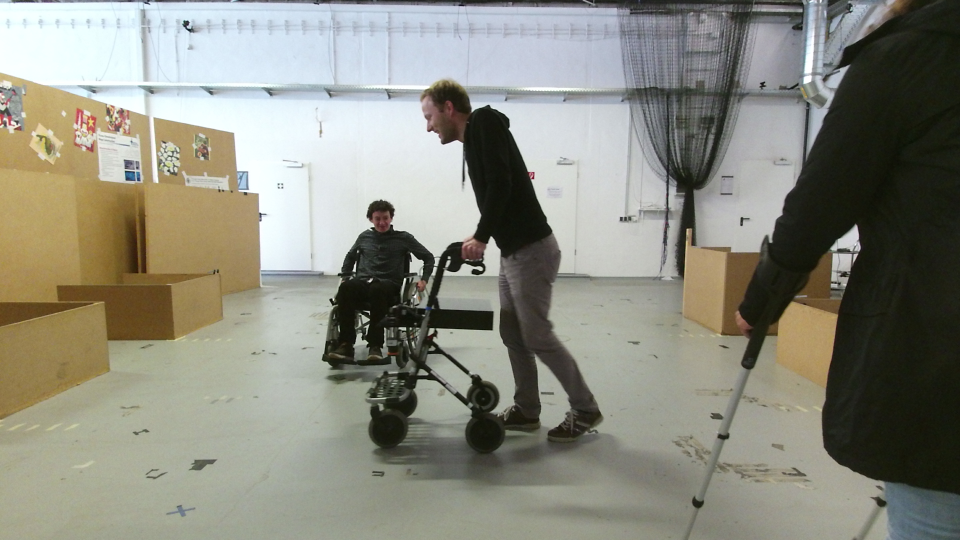wheelchair: (314, 194, 437, 371)
